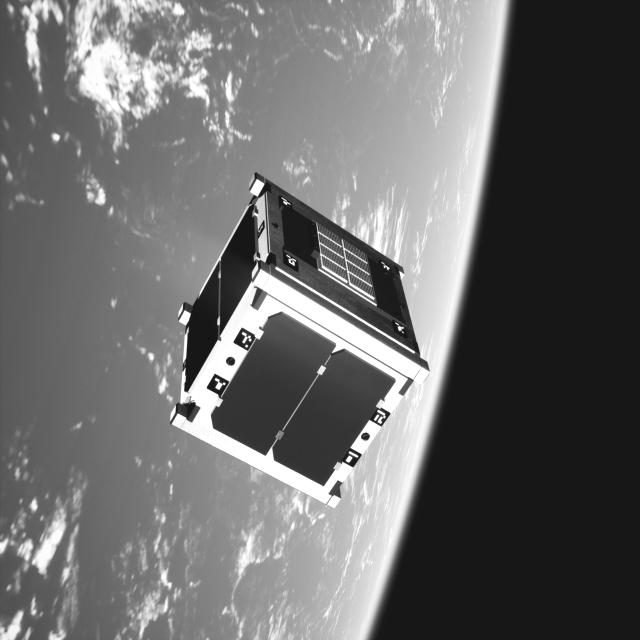satellite: (165, 175, 431, 522)
